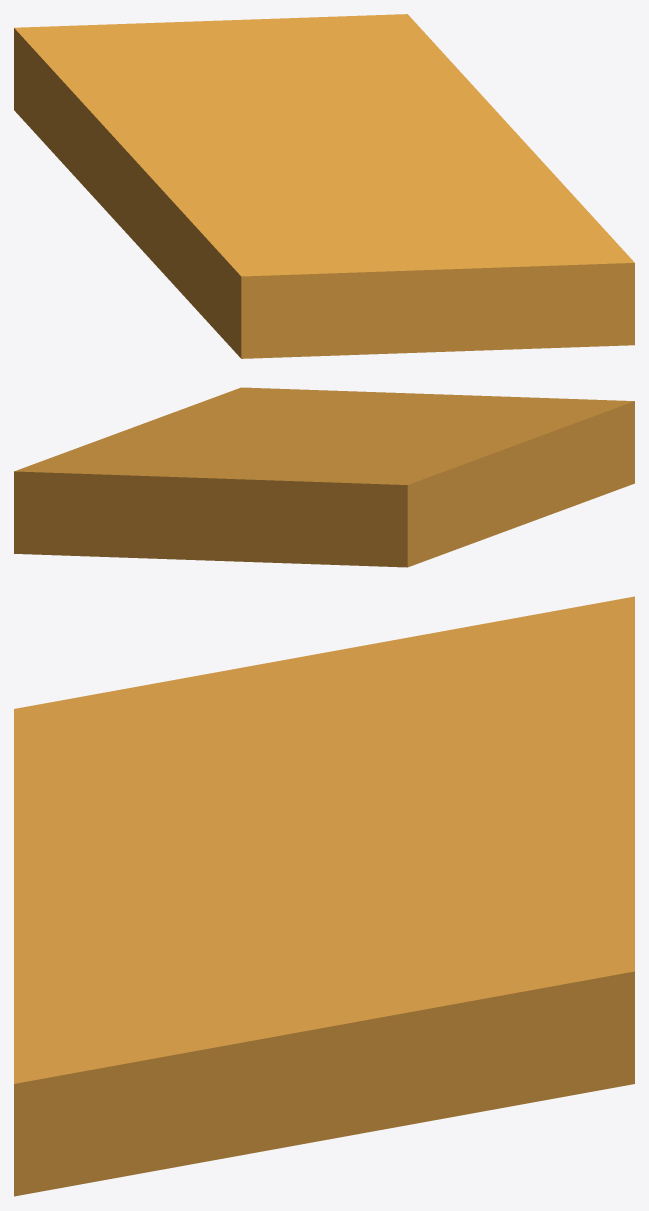
The model's file is tiles-tile-hill-askew.glb.
3 views of the same model, one above another, from view 1: azimuth 30°, elevation 25°; view 2: azimuth 150°, elevation 25°; view 3: azimuth 270°, elevation 25° (orthographic). The views are drawn at different scales.
Parts seen in each view (by area): view 1: tile-hill-askew; view 2: tile-hill-askew; view 3: tile-hill-askew.
Boxes of the visible parts, box(x1,y1,x2,y2) form: tile-hill-askew: box(14, 14, 634, 358); tile-hill-askew: box(14, 387, 634, 567); tile-hill-askew: box(14, 596, 634, 1196).
Size of the model in its own units: 30 by 18 by 30.
